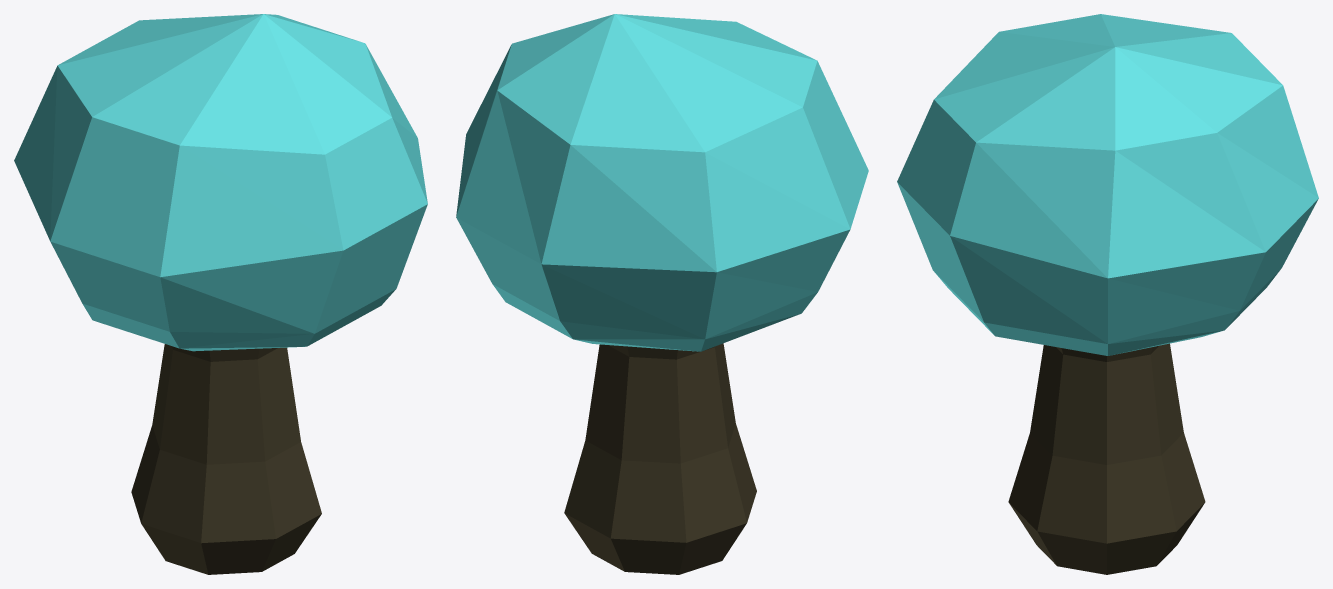
Rendered from MiniChampi1.FBX.
3 views of the same model, side by side, from view 1: azimuth 30°, elevation 25°; view 2: azimuth 150°, elevation 25°; view 3: azimuth 270°, elevation 25° (orthographic).
Parts seen in each view (by area): view 1: Sphere001, Cylinder001; view 2: Sphere001, Cylinder001; view 3: Sphere001, Cylinder001.
Part boxes in pixels (left/top/right/bottom): Sphere001: left=14, top=14, right=427, bottom=351; Cylinder001: left=131, top=344, right=321, bottom=574; Sphere001: left=456, top=14, right=868, bottom=351; Cylinder001: left=564, top=343, right=756, bottom=574; Sphere001: left=897, top=14, right=1318, bottom=355; Cylinder001: left=1008, top=343, right=1205, bottom=574.
Size of the model in its own units: 0.1591 by 0.2158 by 0.1558.
